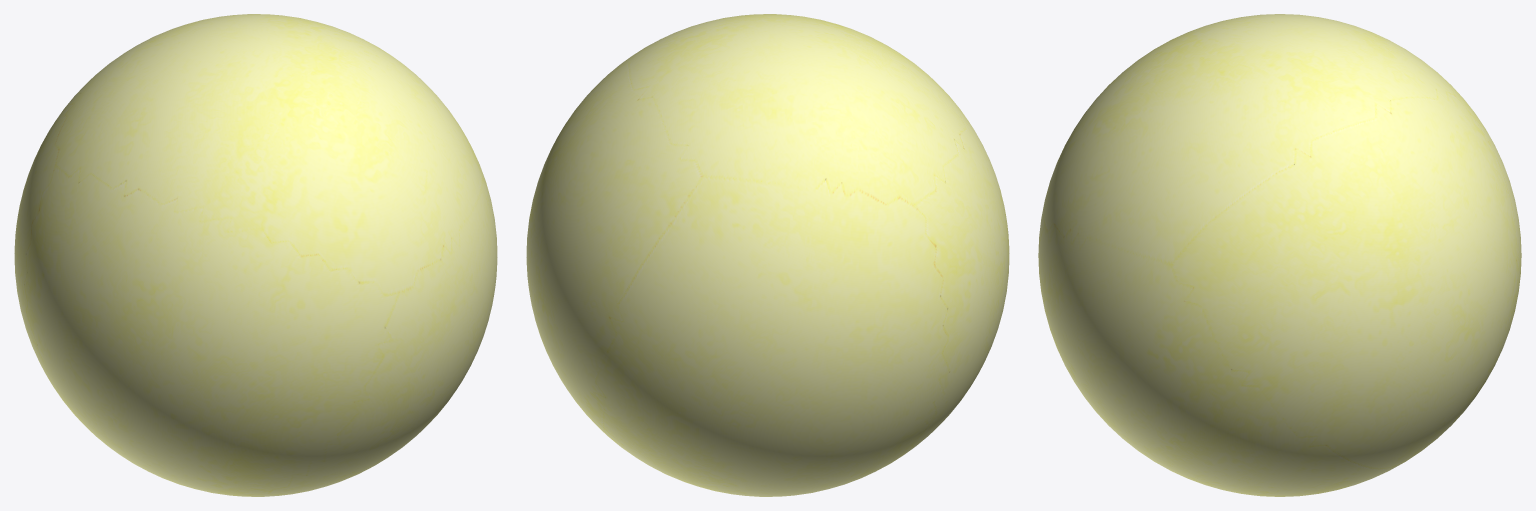
File: Sun.glb
3 renders of one model, left to right at view 1: azimuth 30°, elevation 25°; view 2: azimuth 150°, elevation 25°; view 3: azimuth 270°, elevation 25°, orthographic.
Parts seen in each view (by area): view 1: Sun; view 2: Sun; view 3: Sun.
Part boxes in pixels (left/top/right/bottom): Sun: left=14, top=14, right=497, bottom=496; Sun: left=526, top=14, right=1009, bottom=496; Sun: left=1038, top=14, right=1521, bottom=496.
Size of the model in its own units: 2 by 2 by 2.
Materials: 1 (1 with a texture image).
